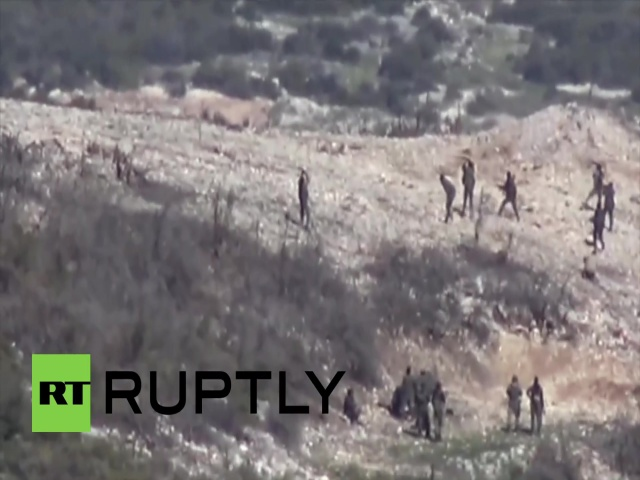person: (293, 162, 314, 228), (525, 374, 547, 436), (411, 382, 434, 441), (499, 168, 522, 220), (460, 155, 477, 217), (588, 160, 607, 213), (438, 171, 458, 221), (431, 381, 447, 442), (506, 373, 522, 432), (591, 200, 607, 255), (601, 181, 617, 230)
